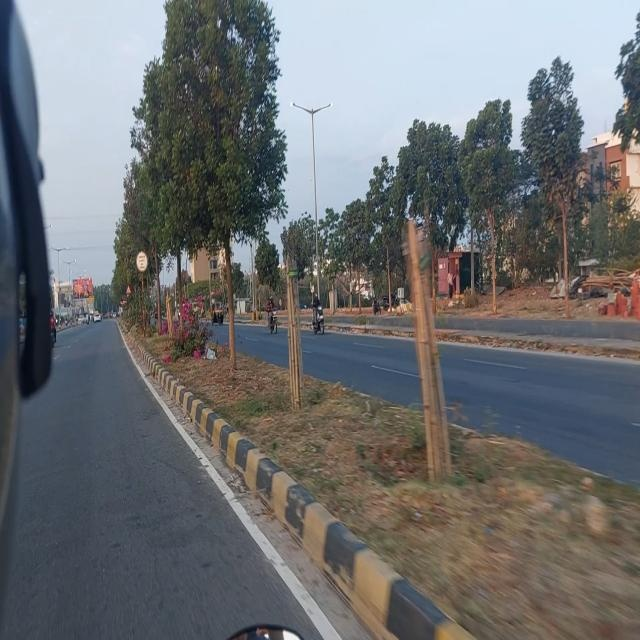bien_nguy_hiem: (136, 248, 148, 274)
